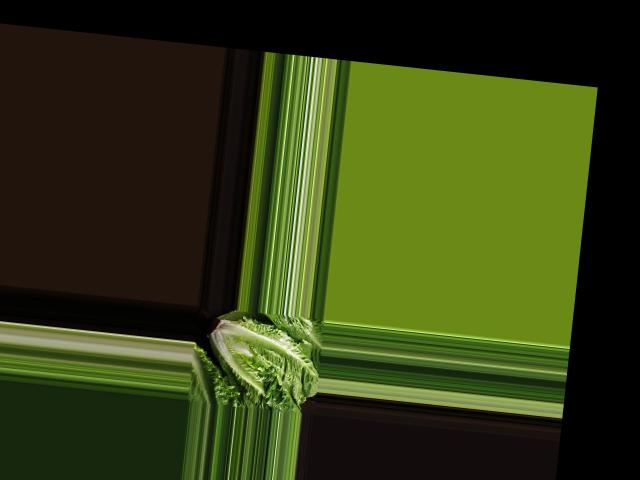lettuce: (194, 305, 323, 408)
